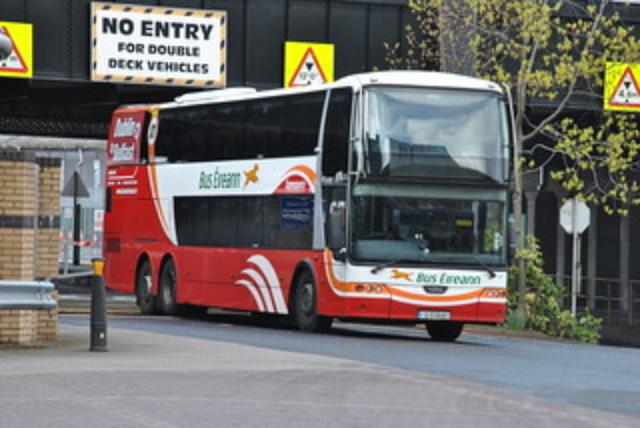bus: (104, 70, 508, 344)
